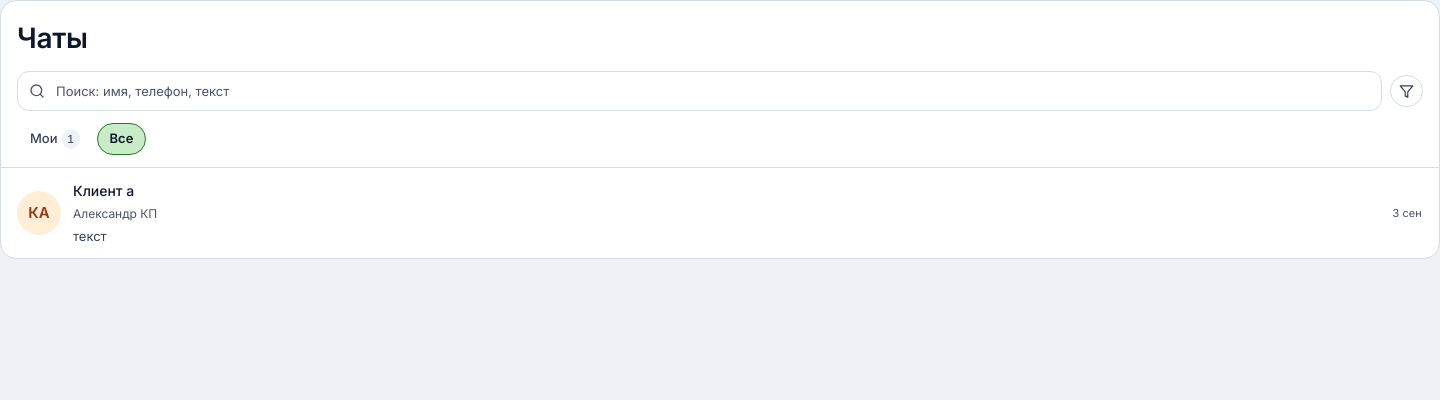
Scenario: источник в фильтре «Канал» › рядом с названием канала стоит его источник
Click the button named "фильтры". click: (1406, 91)
box: 1390,75 -> 1423,107
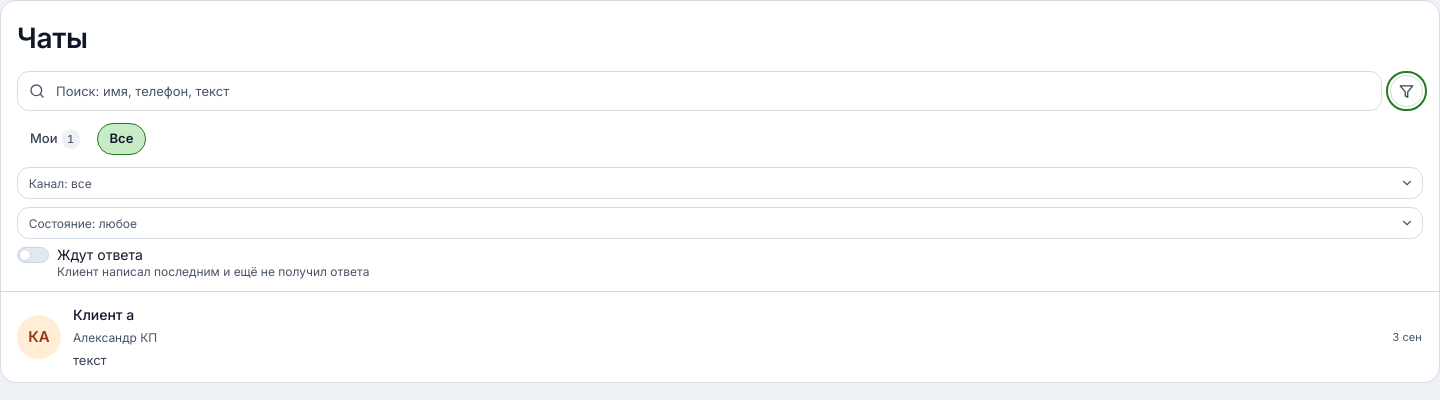
Click the field with placeholder "Канал: все". click: (720, 183)
box: 17,167 -> 1423,199
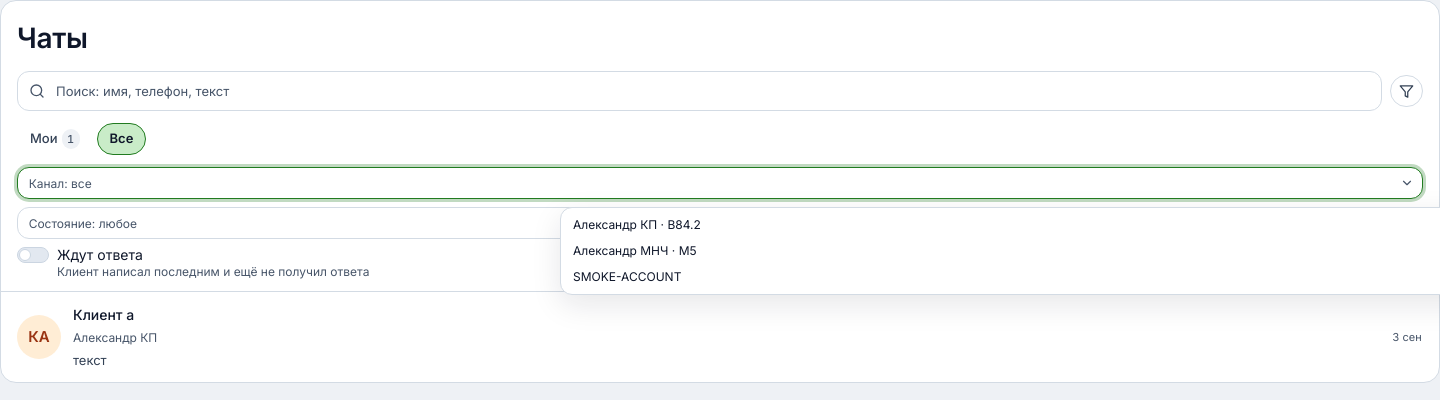
Result: the text "Александр КП · В84.2" is shown at 573,216 -> 701,234
Result: the text "Александр МНЧ · М5" is shown at 573,242 -> 697,260
